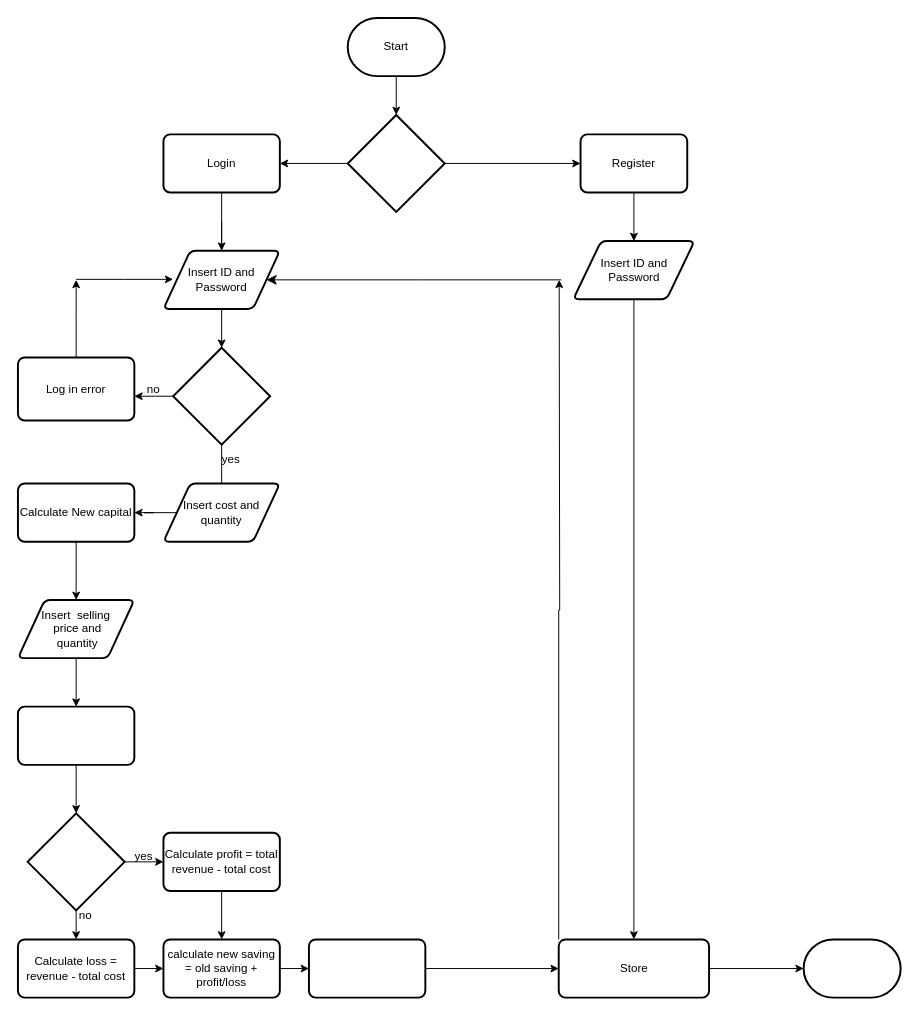
This 918x1015 diagram has some shape labels left out. Each missing label, with the box of its shape:
Calculate total revenue: (16, 705, 135, 765)
End: (802, 938, 901, 998)
Is ID and Password correct?: (172, 346, 271, 445)
Main Menu 1)Register 2)Login: (346, 113, 445, 212)
Print new capital, total revenue, profit/loss, new savings: (307, 938, 426, 998)
Total revenue > total cost: (26, 812, 125, 911)
